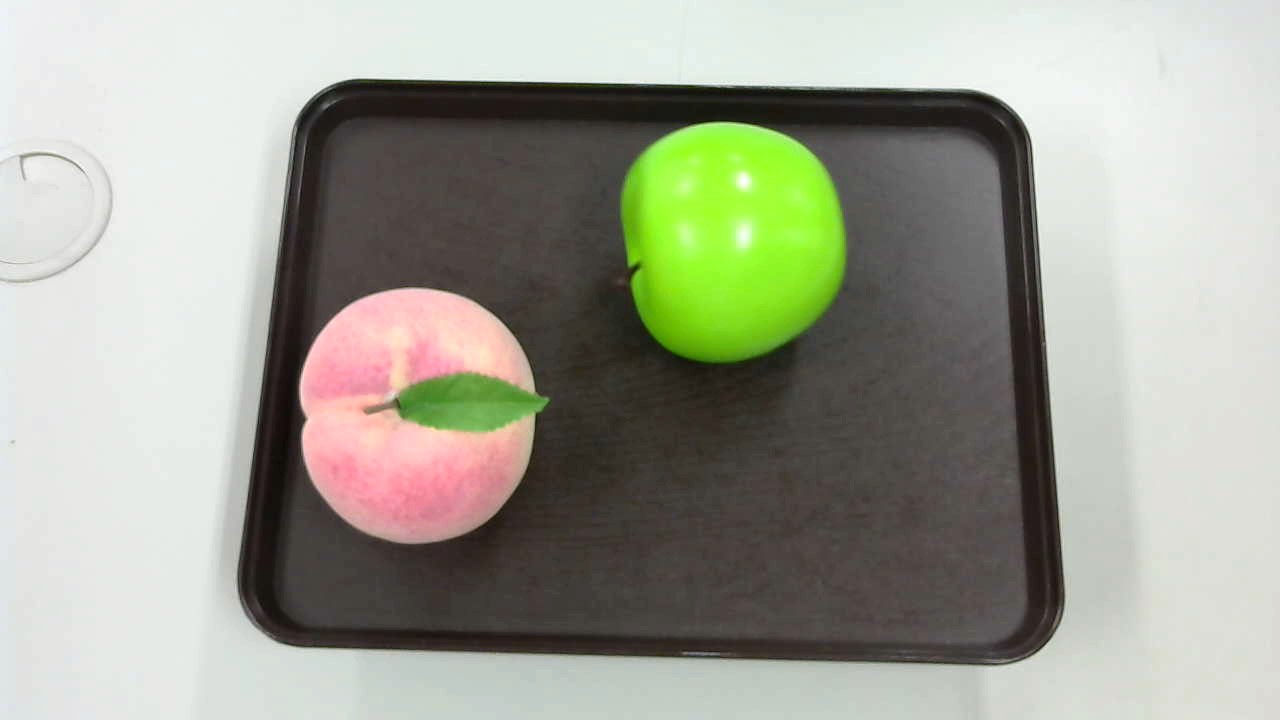green apple: (612, 118, 851, 369)
peach: (289, 288, 547, 546)
